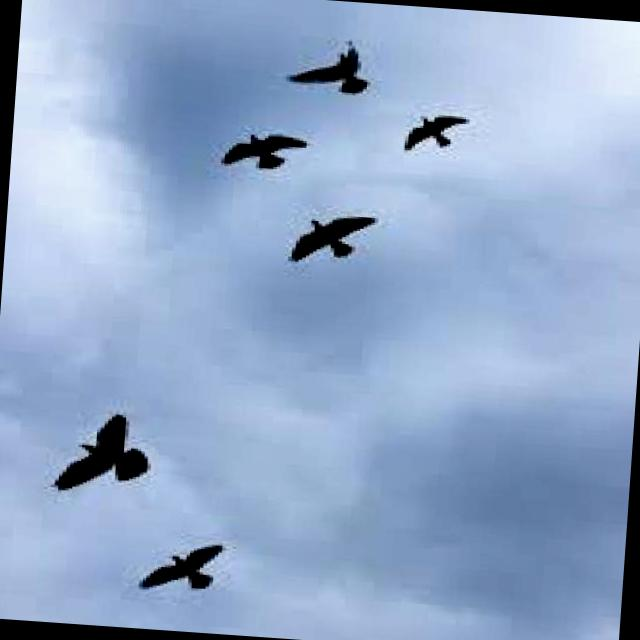bird: (47, 408, 161, 498), (206, 127, 324, 183), (385, 104, 491, 166), (130, 536, 234, 594), (288, 31, 378, 98), (283, 206, 379, 268)
